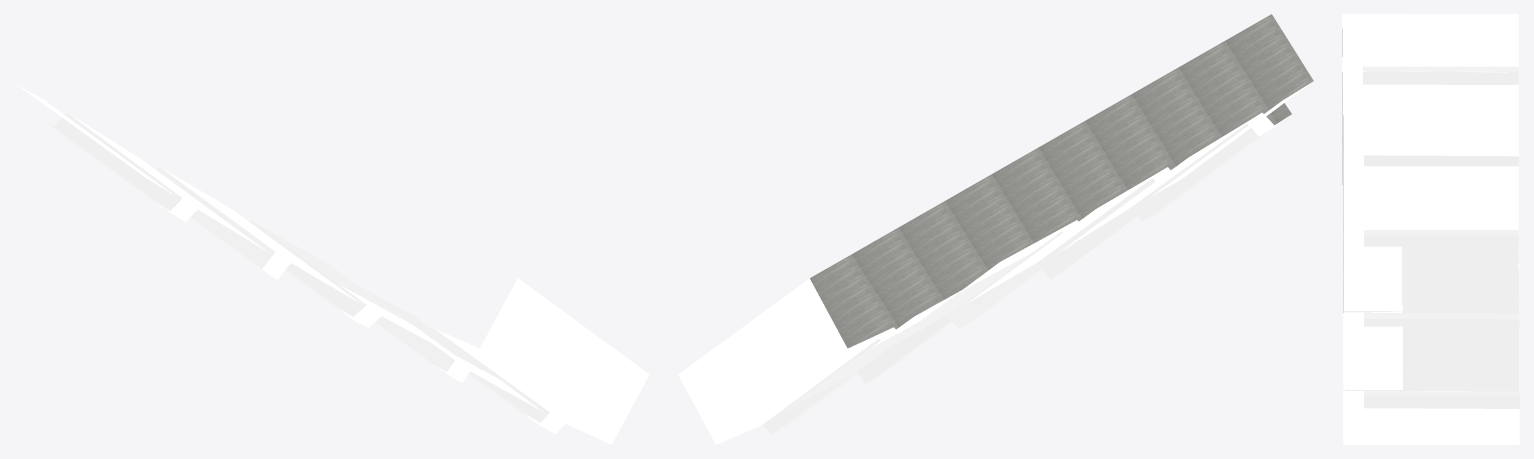
The picture shows the model from 3 angles, left to right: view 1: azimuth 30°, elevation 25°; view 2: azimuth 150°, elevation 25°; view 3: azimuth 270°, elevation 25°; orthographic projection. The views are drawn at different scales.
Visible parts, largest first — view 1: BuildingMaster_1974194160584462431200000000_0; view 2: BuildingMaster_1974194160584462431200000000_1, BuildingMaster_1974194160584462431200000000_0; view 3: BuildingMaster_1974194160584462431200000000_0, BuildingMaster_1974194160584462431200000000_1.
Boxes of the visible parts, x1=… form: BuildingMaster_1974194160584462431200000000_0: x1=15, y1=83, x2=649, y2=444; BuildingMaster_1974194160584462431200000000_1: x1=810, y1=14, x2=1313, y2=348; BuildingMaster_1974194160584462431200000000_0: x1=678, y1=82, x2=1311, y2=444; BuildingMaster_1974194160584462431200000000_0: x1=1342, y1=14, x2=1519, y2=444; BuildingMaster_1974194160584462431200000000_1: x1=1342, y1=29, x2=1343, y2=312.
Size of the model in its own units: 92.75 by 77 by 42.25.
